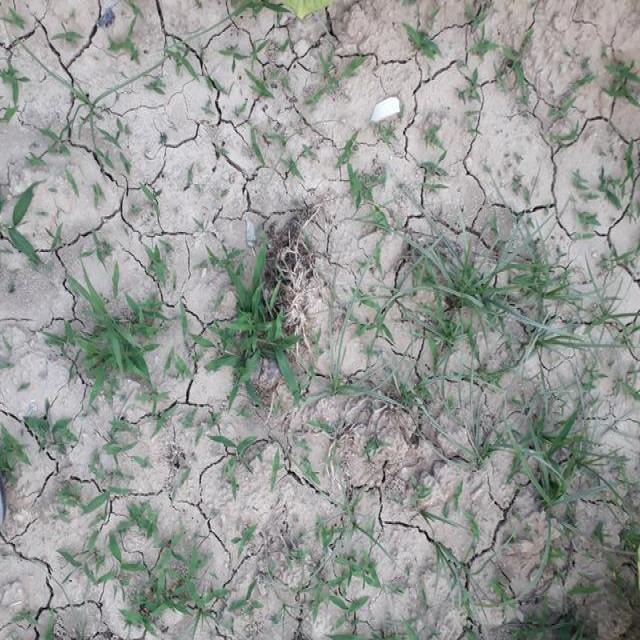weed: (410, 228, 572, 362), (460, 408, 592, 514), (60, 276, 154, 392), (92, 468, 155, 637), (218, 277, 299, 398), (12, 186, 43, 282), (344, 167, 385, 218), (605, 60, 629, 122)
